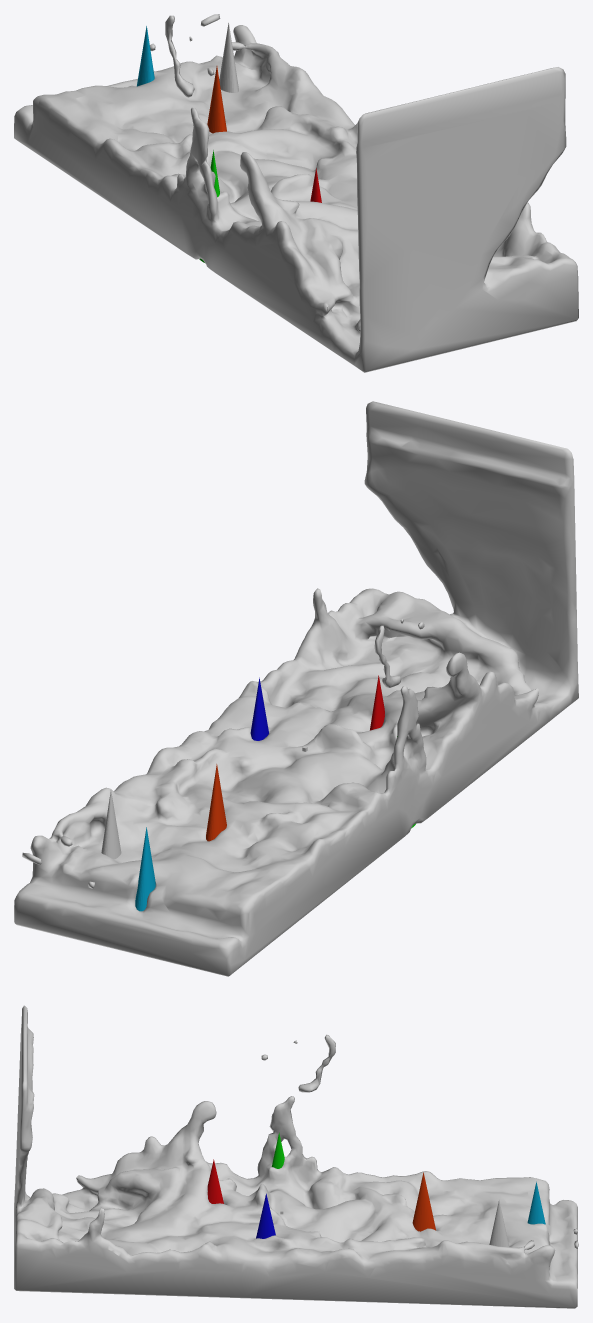
The picture shows the model from 3 angles, top to bottom: view 1: azimuth 30°, elevation 25°; view 2: azimuth 150°, elevation 25°; view 3: azimuth 270°, elevation 25°; orthographic projection. The views are drawn at different scales.
Visible parts, largest first — view 1: Liquid_Domain, 円錐, 円錐.004, 円錐.005; view 2: Liquid_Domain, 円錐.005, 円錐.004, 円錐; view 3: Liquid_Domain, 円錐.004, 円錐, 円錐.002, 円錐.001, 円錐.005.
Part boxes in pixels (x1,y1,x2,y2): Liquid_Domain: (14, 14, 578, 372); 円錐: (219, 22, 238, 92); 円錐.004: (207, 66, 226, 133); 円錐.005: (136, 26, 154, 86); Liquid_Domain: (14, 401, 578, 976); 円錐.005: (135, 827, 155, 911); 円錐.004: (206, 764, 226, 841); 円錐: (101, 790, 121, 859); Liquid_Domain: (14, 1005, 578, 1308); 円錐.004: (412, 1172, 435, 1231); 円錐: (489, 1200, 509, 1246); 円錐.002: (256, 1193, 275, 1238); 円錐.001: (207, 1159, 223, 1203); 円錐.005: (527, 1181, 545, 1224).
Size of the model in its own units: 129 by 158 by 362.
